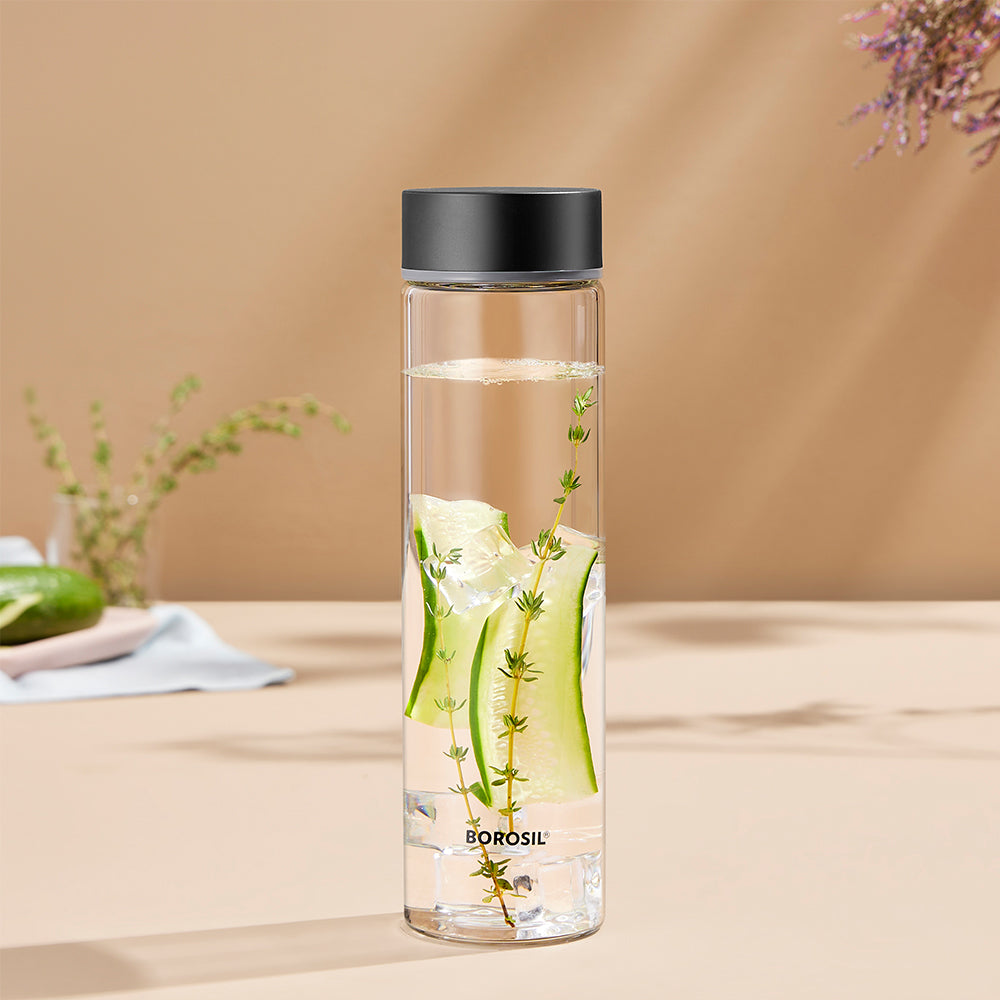glass_bottle: (359, 164, 640, 956)
